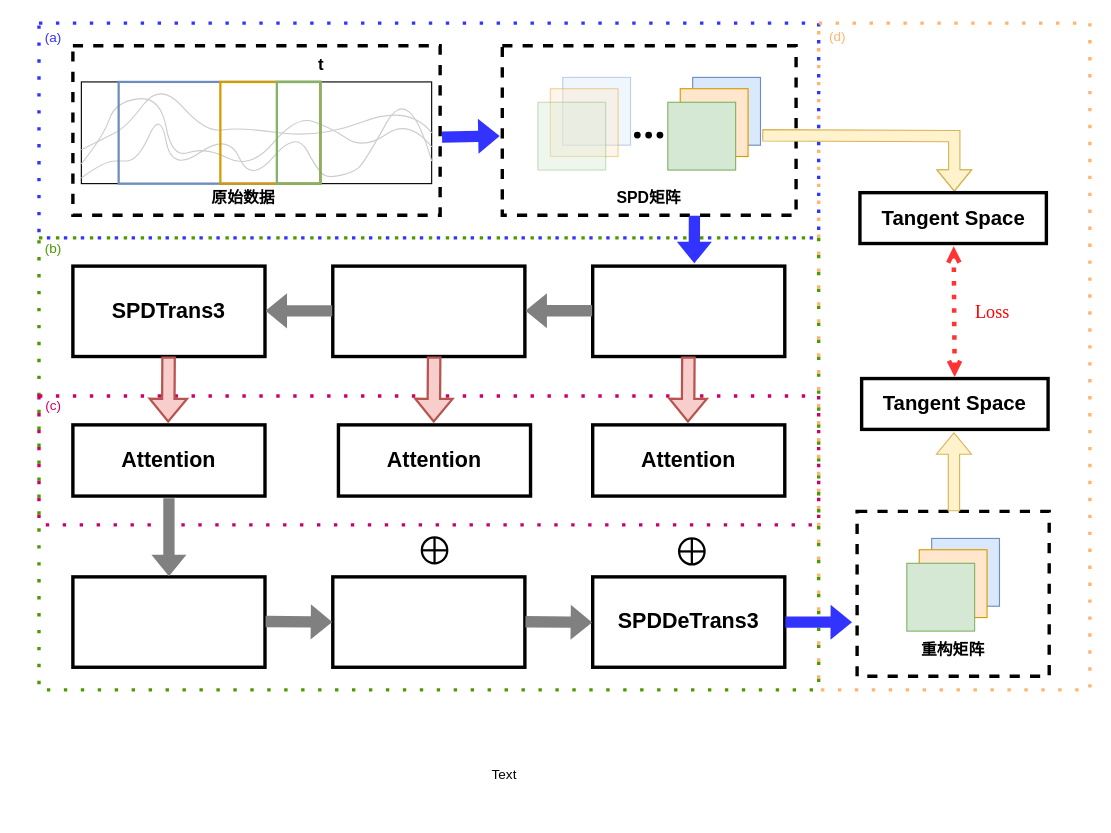
The diagram is 1111 pixels wide and 833 high, and some of its shapes have lost their labels. The shapes that lost their labels are listed below. From the top down, each one's centre as x and y in pixels, then its label:
point (428, 311): SPDTrans2
point (688, 311): SPDTrans1
point (168, 621): SPDDeTrans1
point (428, 621): SPDDeTrans2
